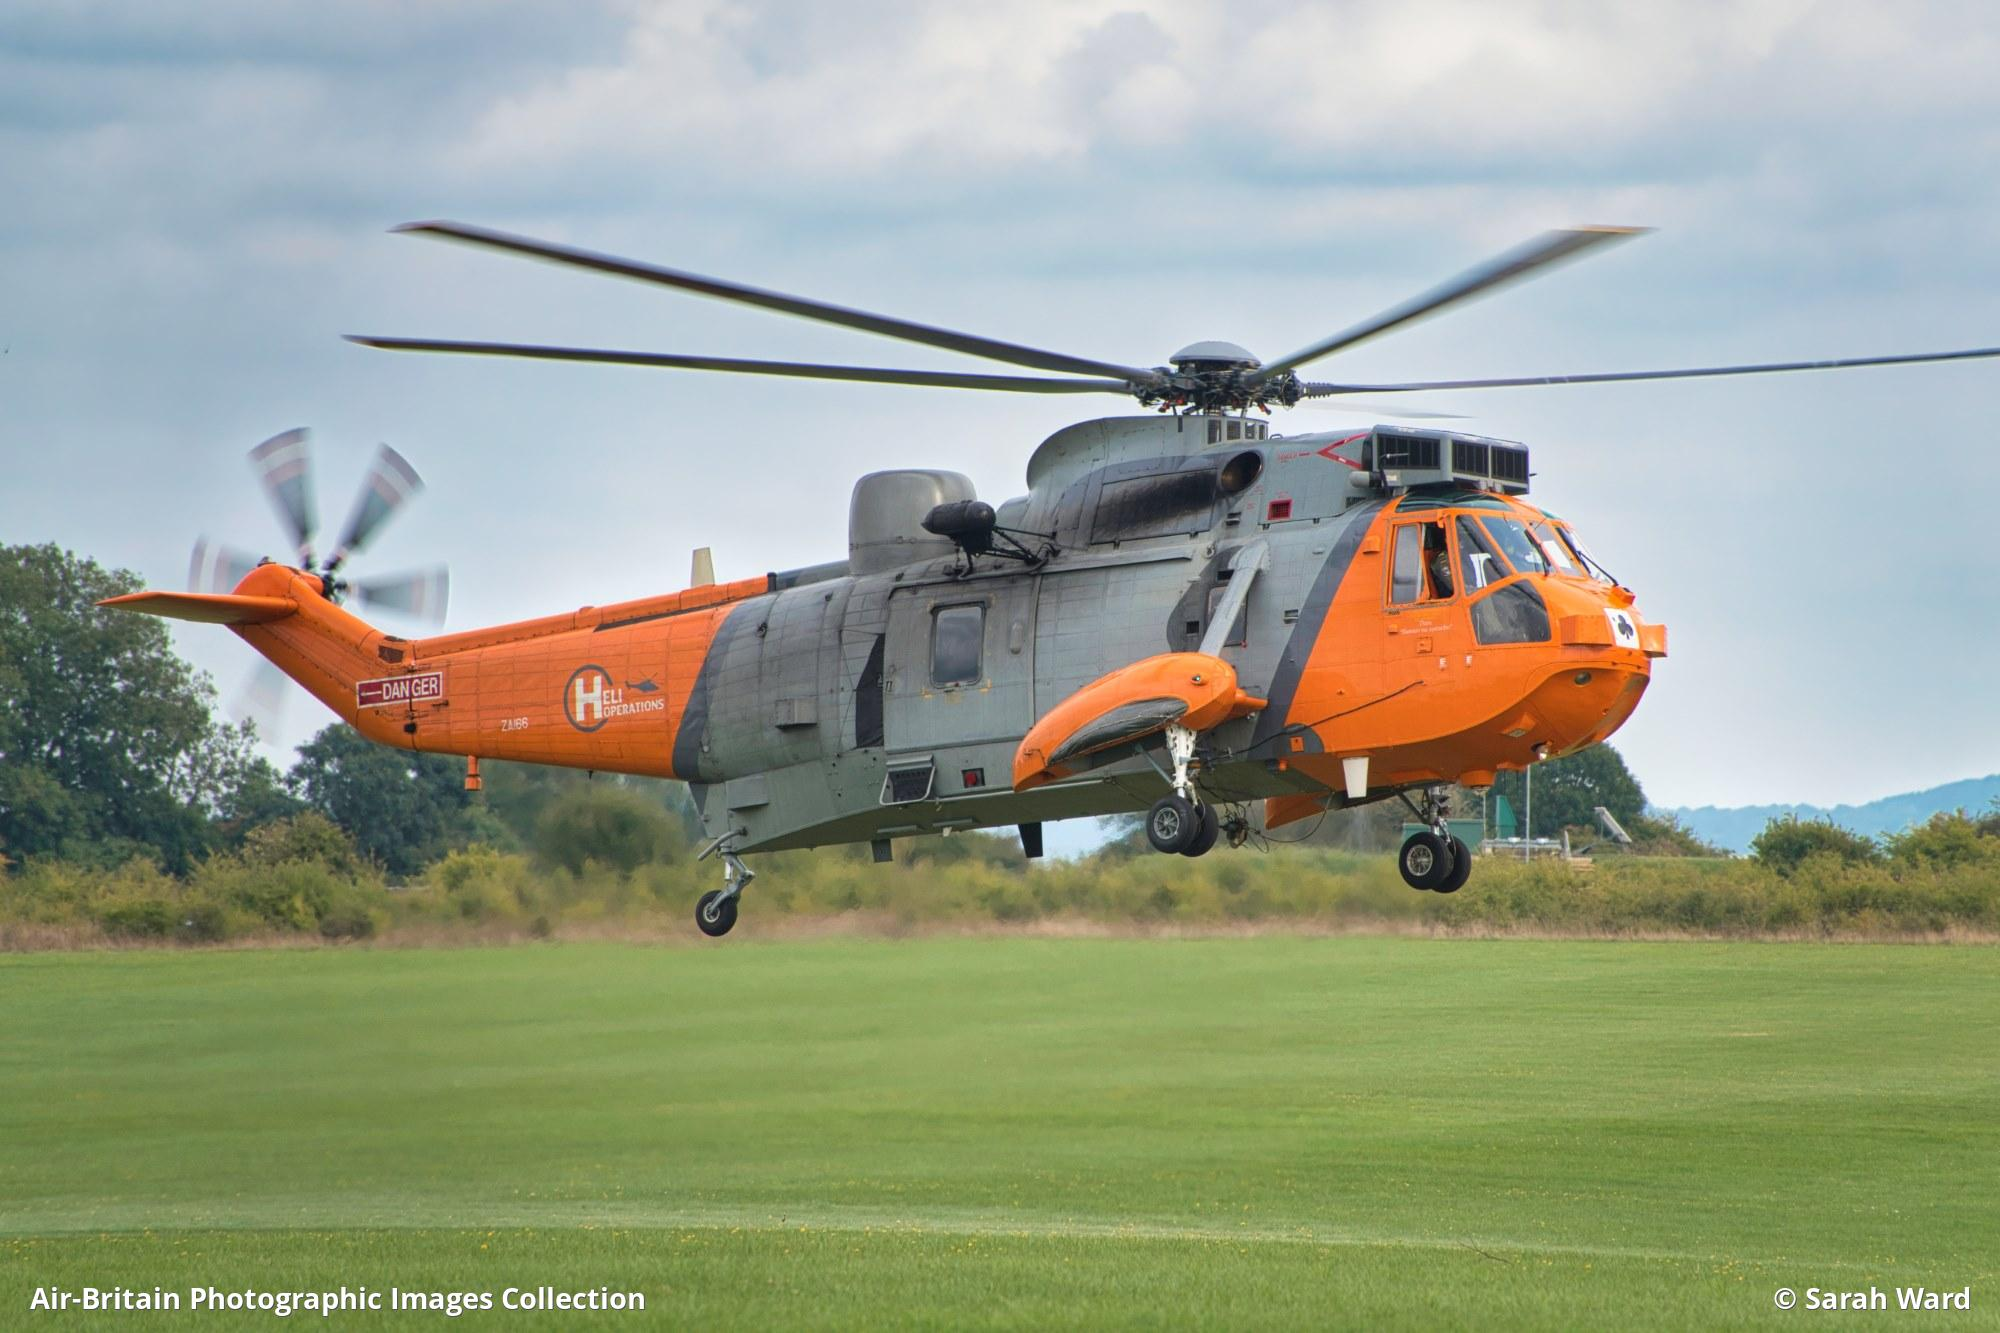Sea King: (97, 177, 1729, 949)
